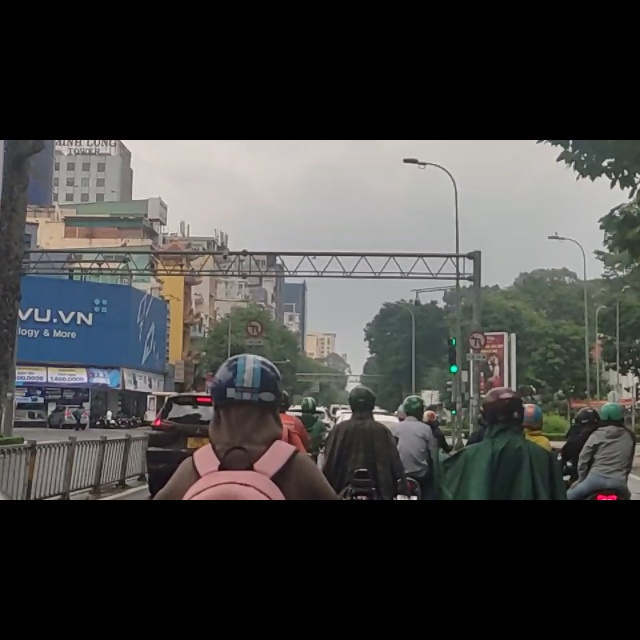bien_cam: (467, 341, 487, 376), (246, 319, 264, 352)
